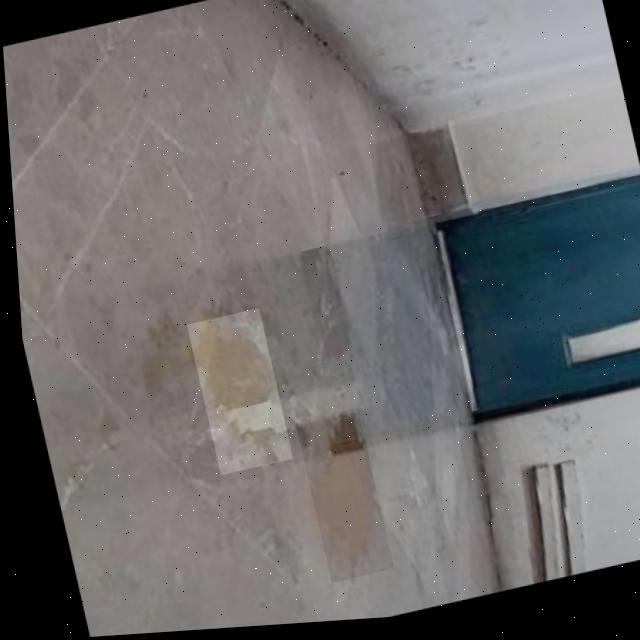spillage: (187, 321, 271, 467), (306, 420, 364, 581)
